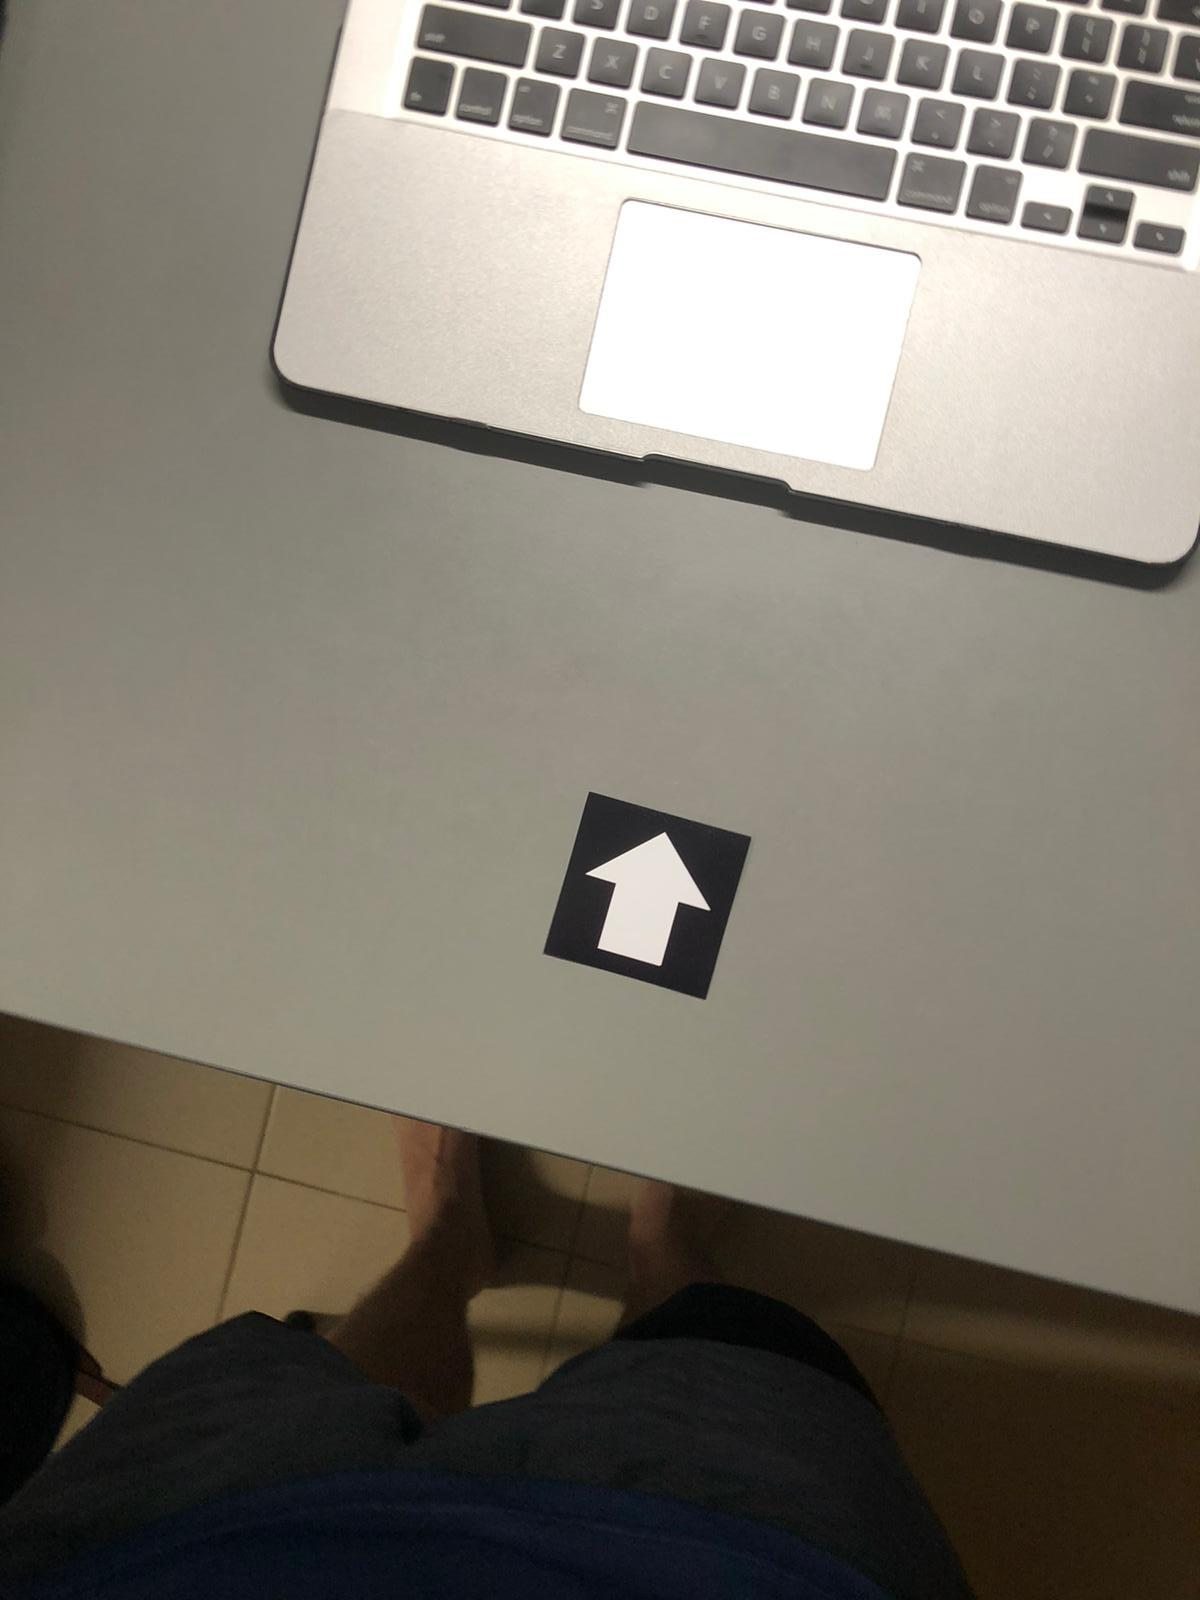Top Arrow: (574, 795, 725, 981)
